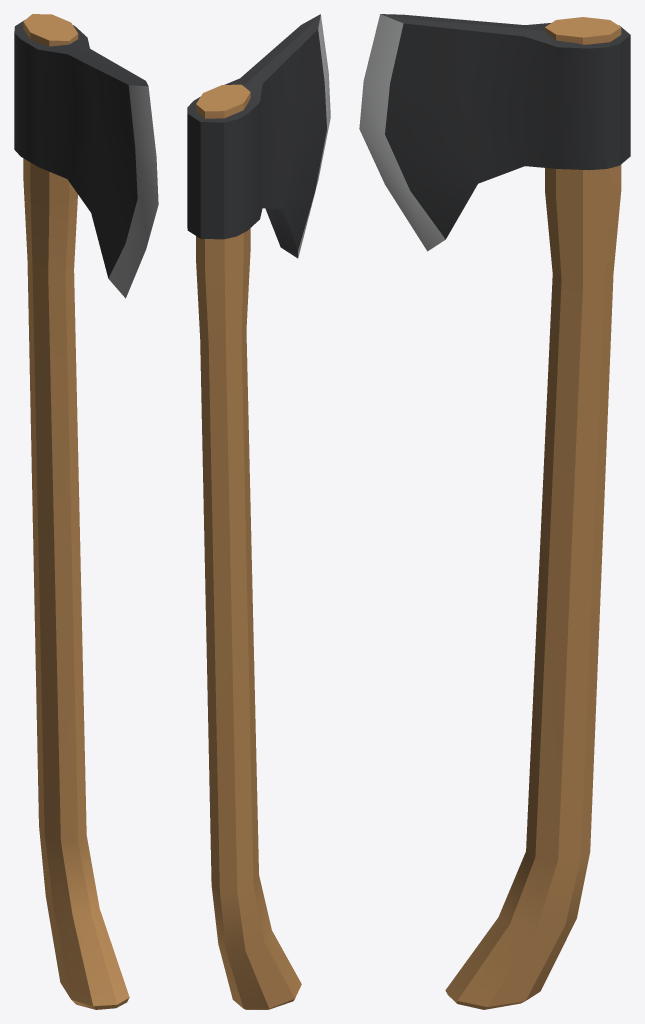
File: M_Sem04_Prop_Axe2H_SBoewing.fbx
3 views of the same model, side by side, from view 1: azimuth 30°, elevation 25°; view 2: azimuth 150°, elevation 25°; view 3: azimuth 270°, elevation 25° (orthographic). The views are drawn at different scales.
Parts seen in each view (by area): view 1: axe; view 2: axe; view 3: axe.
Part boxes in pixels (left/top/right/bottom): axe: left=14, top=14, right=158, bottom=1009; axe: left=187, top=14, right=330, bottom=1009; axe: left=359, top=14, right=630, bottom=1009.
Bounding box in the file's own units: 5.85 × 98.31 × 24.4.
